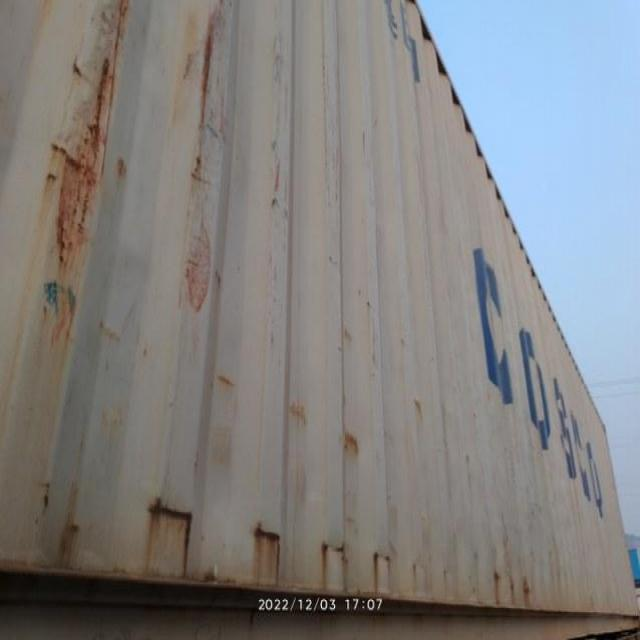rust: (58, 77, 108, 249), (157, 496, 192, 533), (207, 28, 215, 161)
